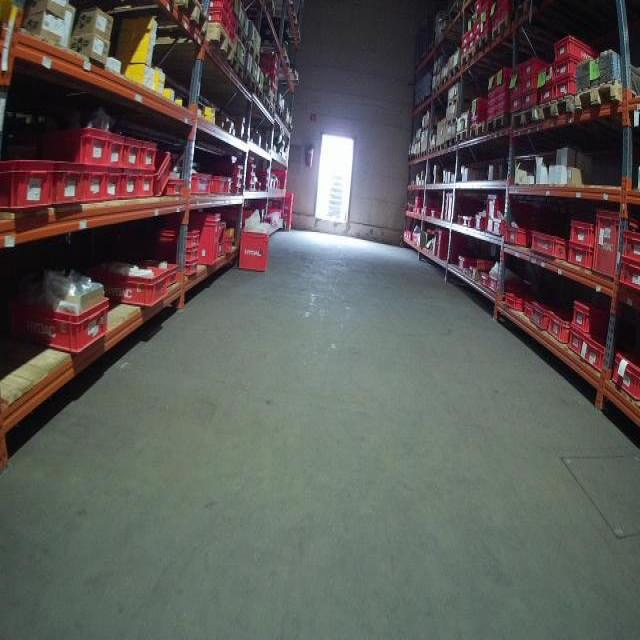pallet: (575, 79, 622, 116), (538, 92, 574, 123), (206, 23, 232, 64), (510, 105, 538, 129), (175, 0, 200, 25), (491, 14, 512, 41), (487, 113, 509, 133), (474, 32, 489, 56), (231, 55, 243, 82), (235, 20, 246, 48), (470, 120, 486, 139), (248, 42, 260, 66), (460, 47, 474, 67), (457, 128, 469, 146), (449, 63, 460, 80), (445, 137, 456, 149), (263, 95, 270, 112), (432, 84, 440, 97), (437, 142, 445, 153), (441, 76, 448, 87), (428, 147, 436, 156), (420, 149, 427, 158), (415, 153, 420, 160)
small_load_carrier: (14, 292, 112, 356), (590, 208, 639, 283), (37, 123, 109, 171), (96, 262, 170, 306), (1, 155, 54, 212), (176, 209, 222, 265), (484, 192, 529, 241), (46, 158, 87, 208), (572, 295, 616, 338), (74, 163, 112, 205), (550, 30, 601, 61), (147, 147, 176, 198), (236, 227, 268, 270), (612, 353, 638, 401), (148, 228, 203, 249), (529, 228, 564, 260), (587, 335, 610, 381), (100, 127, 124, 171), (176, 172, 214, 199), (565, 240, 596, 273), (568, 222, 602, 247), (547, 308, 571, 341), (149, 260, 178, 287), (550, 58, 586, 79), (529, 292, 548, 331), (517, 71, 549, 94), (487, 4, 512, 33), (154, 246, 201, 261), (120, 132, 138, 171), (103, 171, 123, 205), (204, 5, 228, 33), (619, 258, 639, 291), (120, 172, 140, 205), (138, 141, 157, 175), (621, 228, 639, 263), (503, 225, 530, 247), (163, 175, 188, 198), (522, 86, 544, 112), (517, 54, 547, 73), (503, 286, 524, 312), (138, 175, 158, 202), (555, 78, 580, 99), (494, 68, 517, 90), (214, 160, 243, 176), (204, 177, 226, 198), (573, 328, 587, 360), (538, 85, 560, 105), (492, 222, 511, 245), (215, 176, 232, 201), (537, 67, 558, 86), (506, 93, 525, 114), (258, 48, 279, 65), (183, 260, 203, 277), (224, 186, 244, 199), (510, 71, 525, 87), (204, 1, 232, 9), (524, 298, 534, 319), (485, 73, 496, 91), (225, 176, 245, 185)
